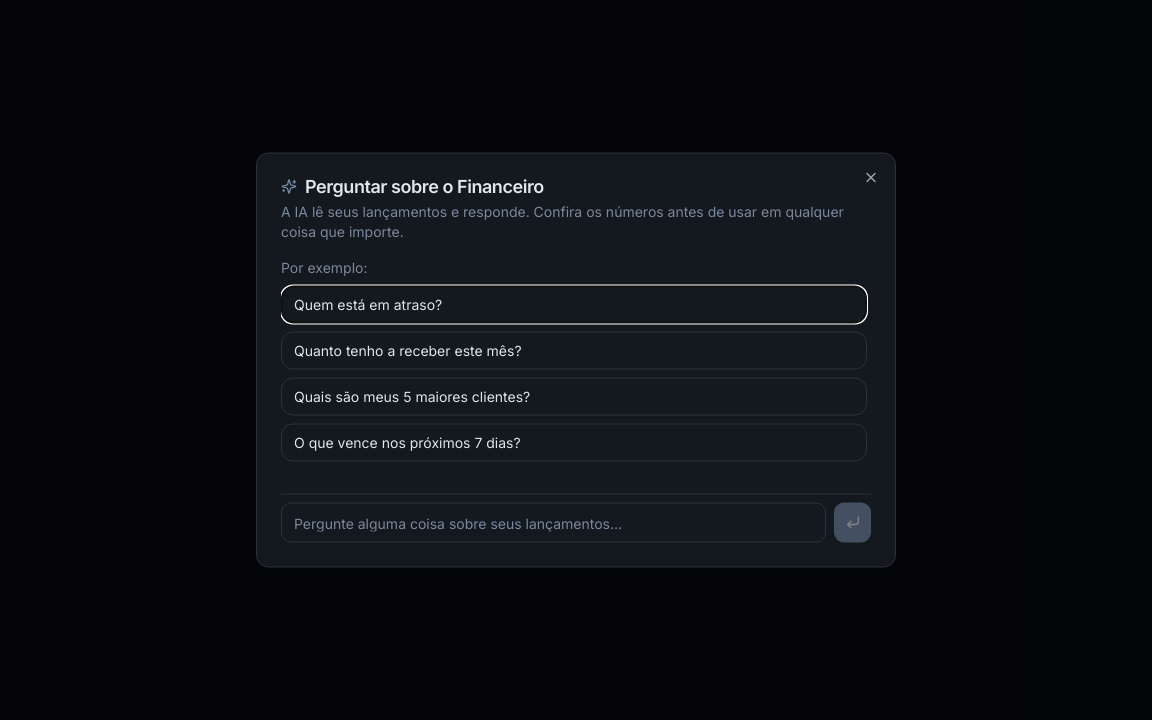
Test: AssistenteFinanceiro › mostra o erro da funcao em vez de sumir com a pergunta
The width and height of the screenshot is (1152, 720).
Click the button "Quem está em atraso?": x=368, y=304 [281,286,867,324]
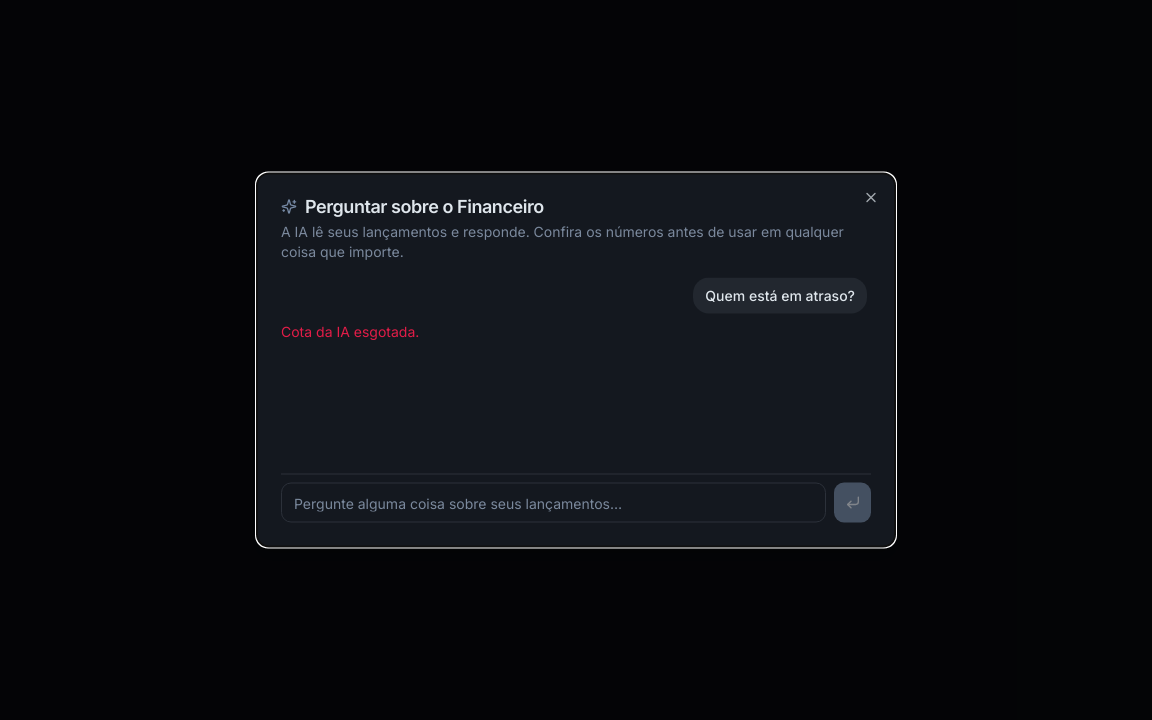
Expected: the text "Quem está em atraso?" is shown, [693,278,867,314]
Expected: the text "Cota da IA esgotada." is shown, [281,322,419,340]
